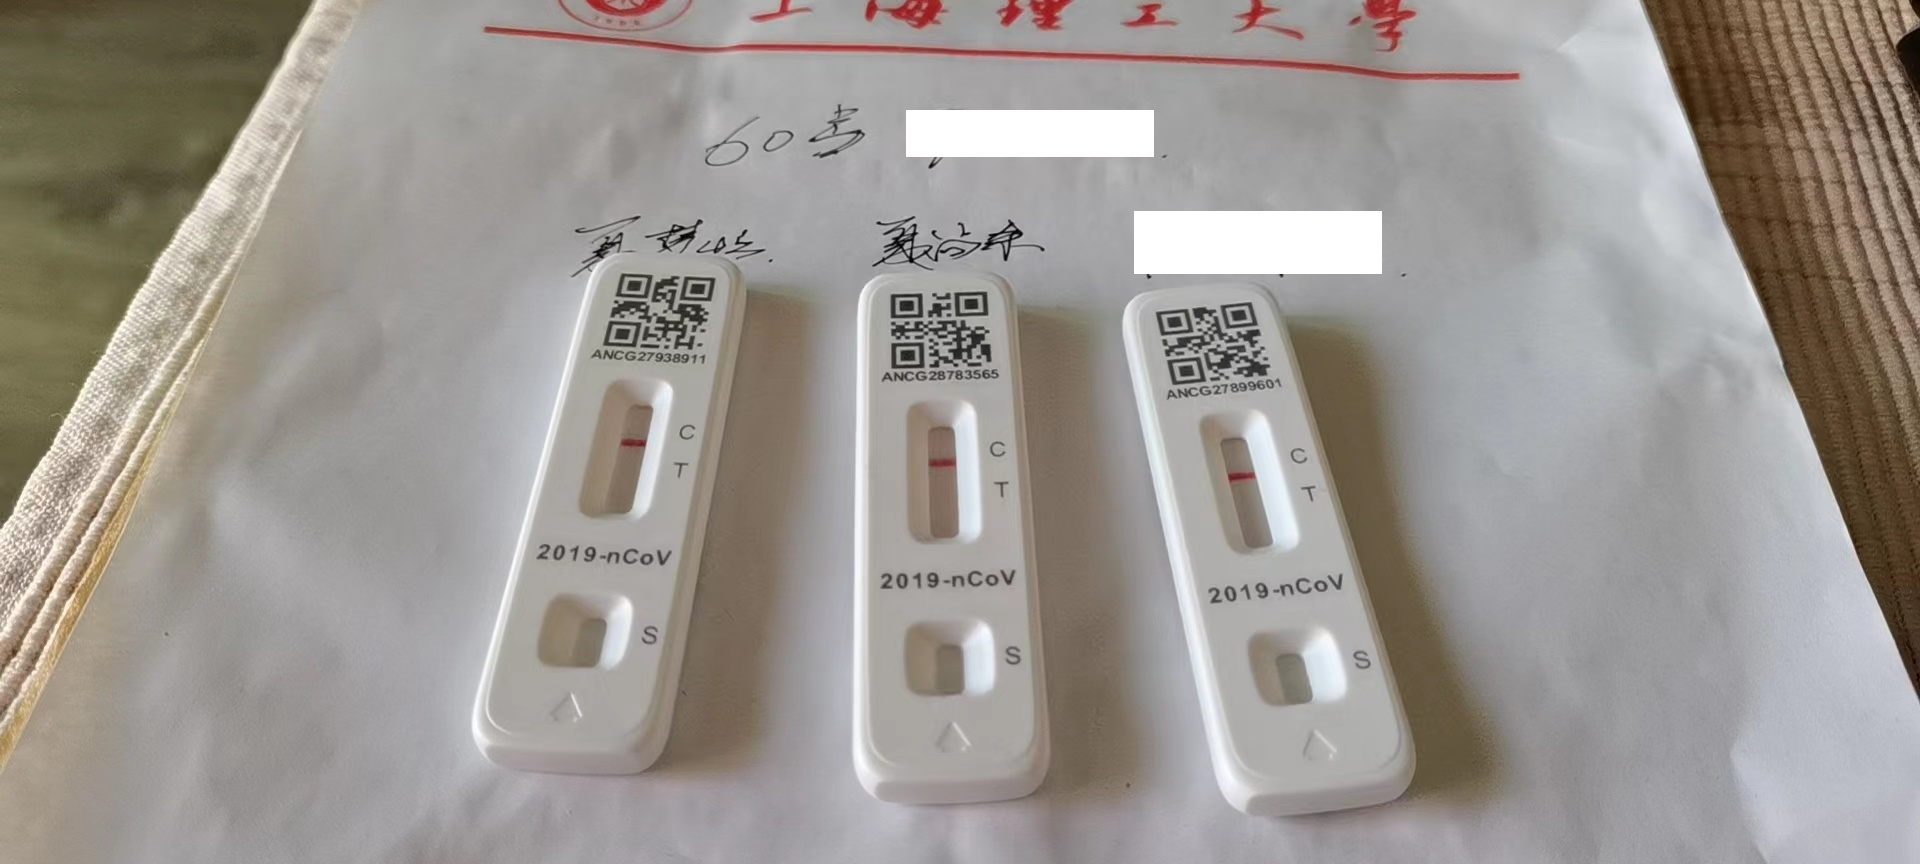negative: (576, 378, 671, 520), (1201, 411, 1293, 557), (905, 400, 978, 546)
